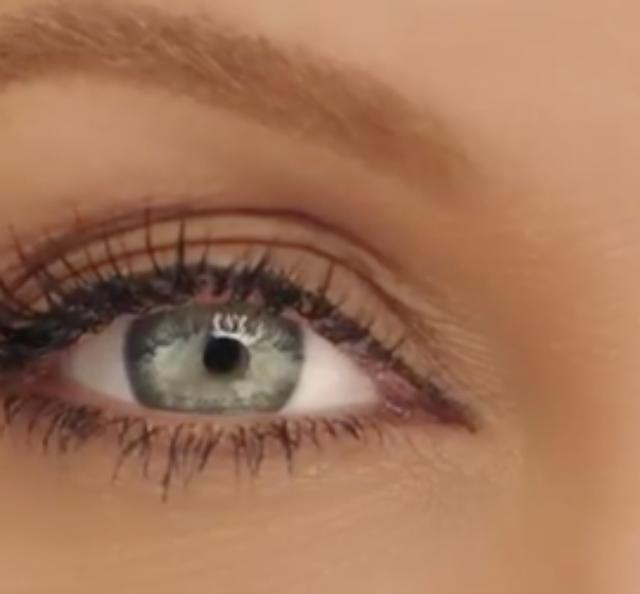eye: (125, 280, 312, 418)
